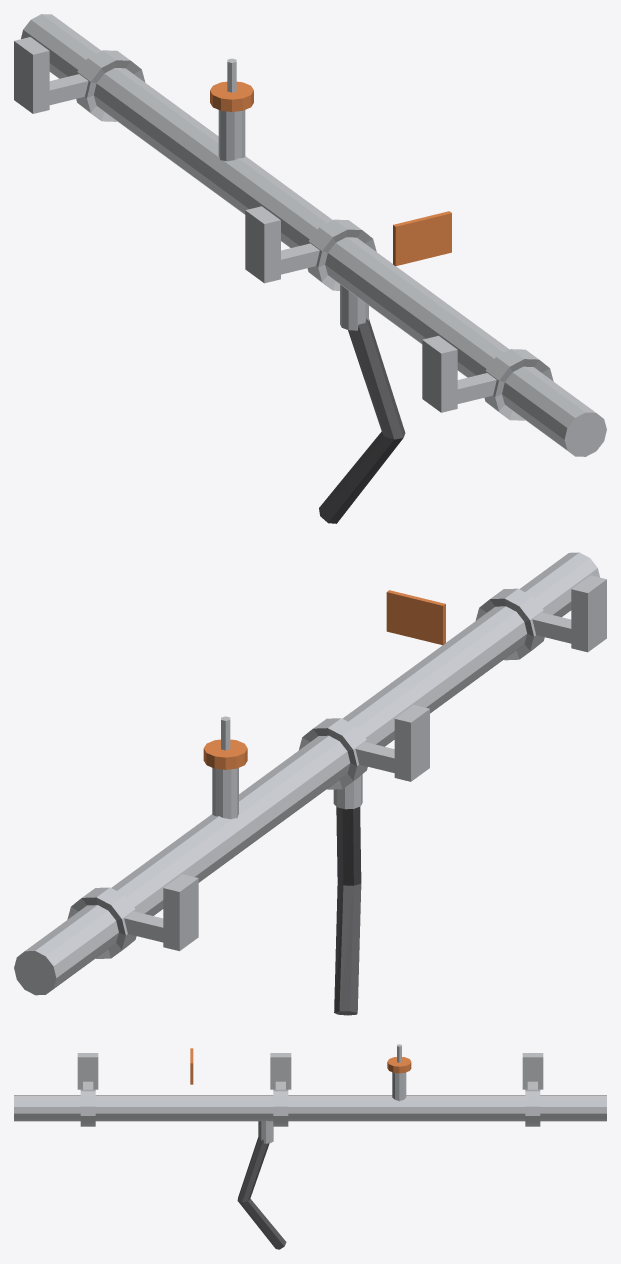
File: underground-mine-and-shaft-works-compressed-air-line-0201fe38.glb
3 views of the same model, one above another, from view 1: azimuth 30°, elevation 25°; view 2: azimuth 150°, elevation 25°; view 3: azimuth 270°, elevation 25° (orthographic). The views are drawn at different scales.
Parts seen in each view (by area): view 1: compressed-air-line; view 2: compressed-air-line; view 3: compressed-air-line.
Boxes of the visible parts, x1,y1,x2,y2 form: compressed-air-line: (14, 14, 606, 523); compressed-air-line: (14, 552, 606, 1015); compressed-air-line: (14, 1044, 606, 1249).
Bounding box in the file's own units: 0.4898 × 1.53 × 4.
